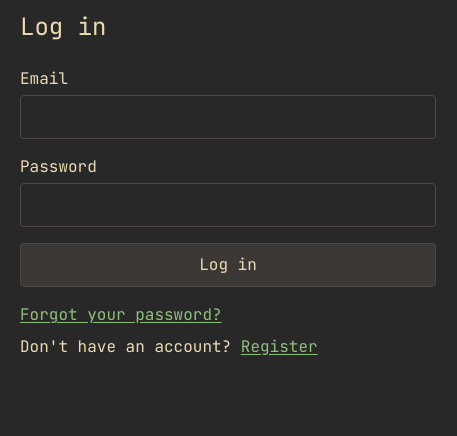
it: Login › shows a distinct message and resend link when the email is unverified
In the field labelled "Email": (228, 117) [20,95,436,139], type "unverified@example.com"
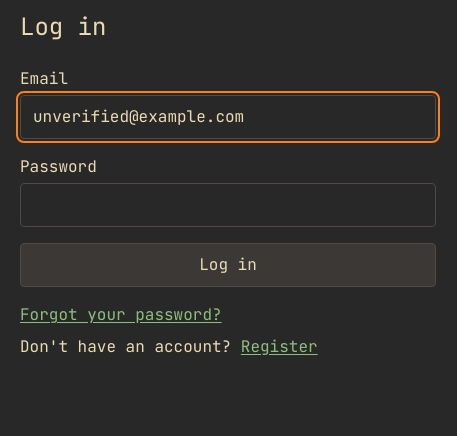
In the password field labelled "Password": (228, 205) [20,183,436,227], type "the-real-password"
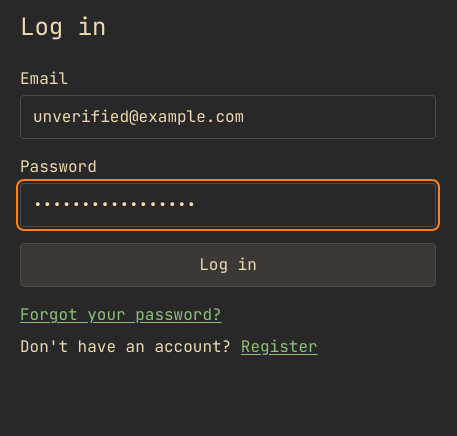
Click the button "Log in": (228, 265) [20,243,436,287]
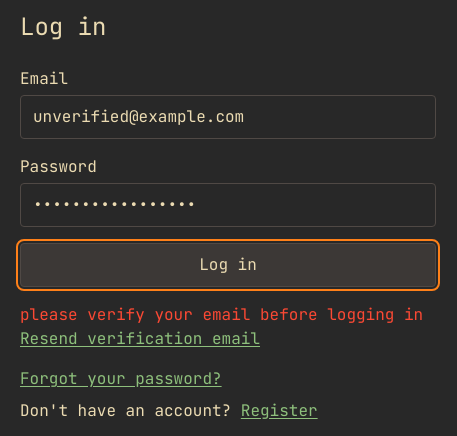
Result: the message shows "please verify your email before logging in" at [20,304,423,325]
